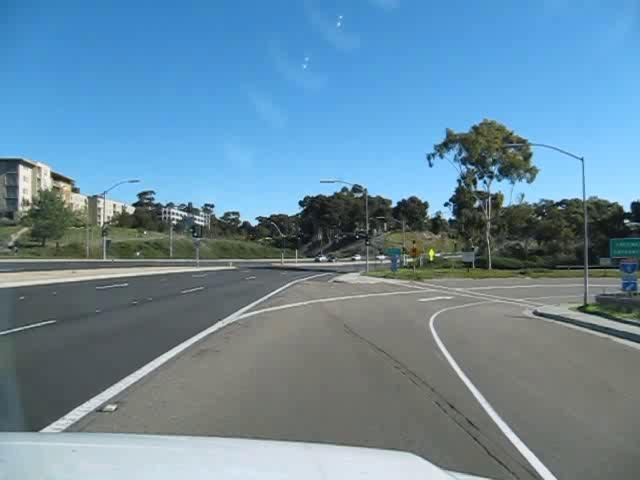signalAhead: (406, 243, 422, 260)
